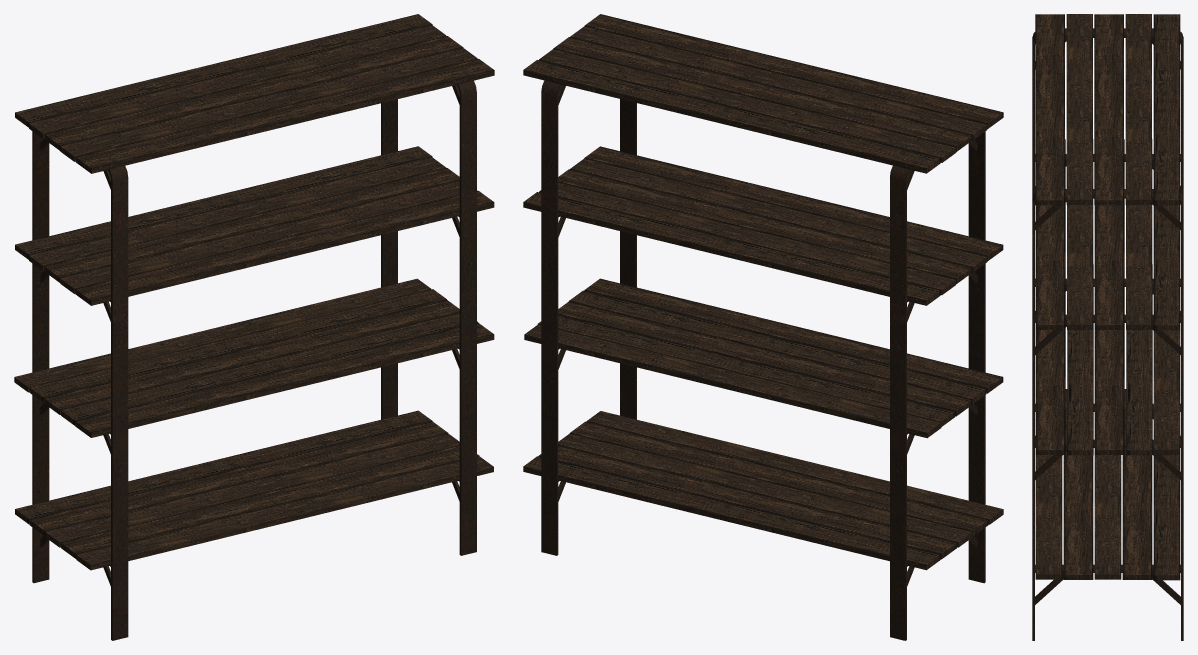
Rendered from shelf_mx_1.glb.
3 views of the same model, side by side, from view 1: azimuth 30°, elevation 25°; view 2: azimuth 150°, elevation 25°; view 3: azimuth 270°, elevation 25° (orthographic). The views are drawn at different scales.
Visible parts, largest first — view 1: shelf_mx_1; view 2: shelf_mx_1; view 3: shelf_mx_1.
Boxes of the visible parts, left/top/right/bottom form: shelf_mx_1: left=14, top=14, right=494, bottom=640; shelf_mx_1: left=523, top=14, right=1003, bottom=640; shelf_mx_1: left=1032, top=14, right=1183, bottom=640.
Size of the model in its own units: 1.6 by 1.8 by 0.55.
2 materials, 2 textured.
